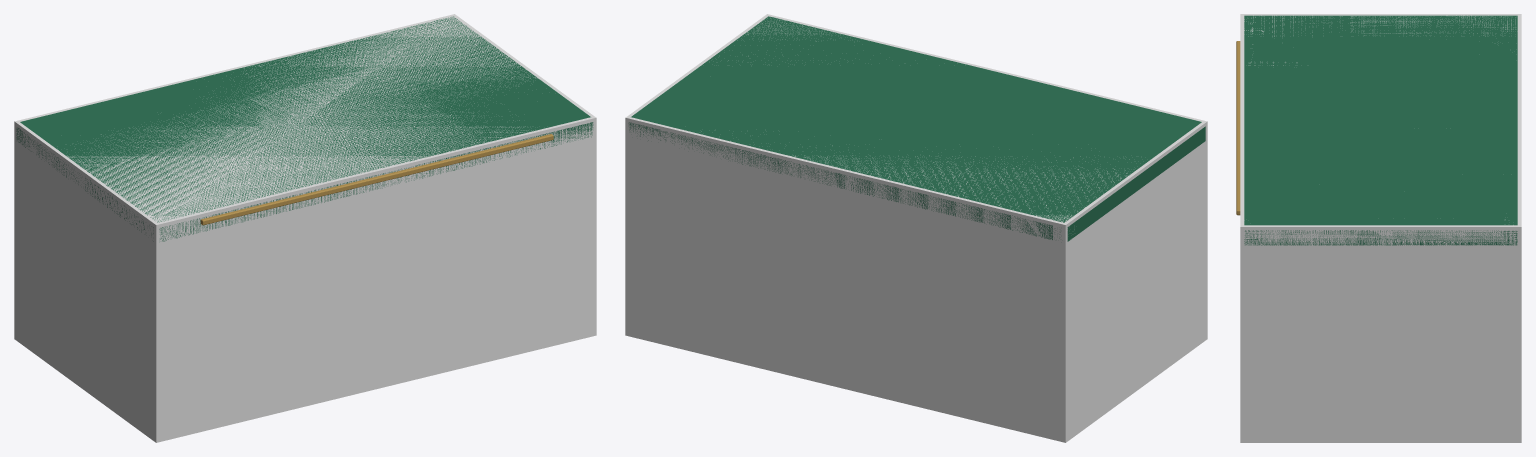
File: dining-table_boutique.glb
3 renders of one model, left to right at view 1: azimuth 30°, elevation 25°; view 2: azimuth 150°, elevation 25°; view 3: azimuth 270°, elevation 25°, orthographic.
Parts seen in each view (by area): view 1: COL_dining-table, MESH_Top, MESH_TierTrim_01; view 2: COL_dining-table, MESH_Top; view 3: COL_dining-table, MESH_Top, MESH_TierTrim_01.
Boxes of the visible parts, x1=… form: COL_dining-table: x1=14, y1=14, x2=596, y2=442; MESH_Top: x1=16, y1=16, x2=593, y2=241; MESH_TierTrim_01: x1=200, y1=134, x2=553, y2=225; COL_dining-table: x1=625, y1=14, x2=1207, y2=442; MESH_Top: x1=628, y1=16, x2=1205, y2=241; COL_dining-table: x1=1240, y1=14, x2=1521, y2=442; MESH_Top: x1=1244, y1=15, x2=1517, y2=245; MESH_TierTrim_01: x1=1236, y1=41, x2=1240, y2=215.
Bounding box in the file's own units: 1.65 × 0.78 × 0.933.
